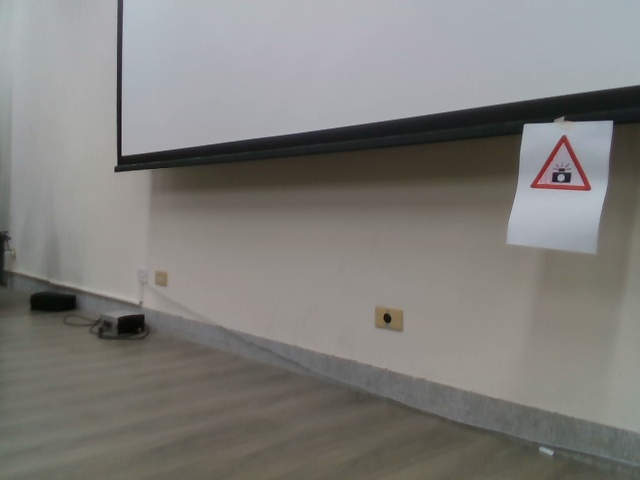camera: (528, 133, 595, 202)
